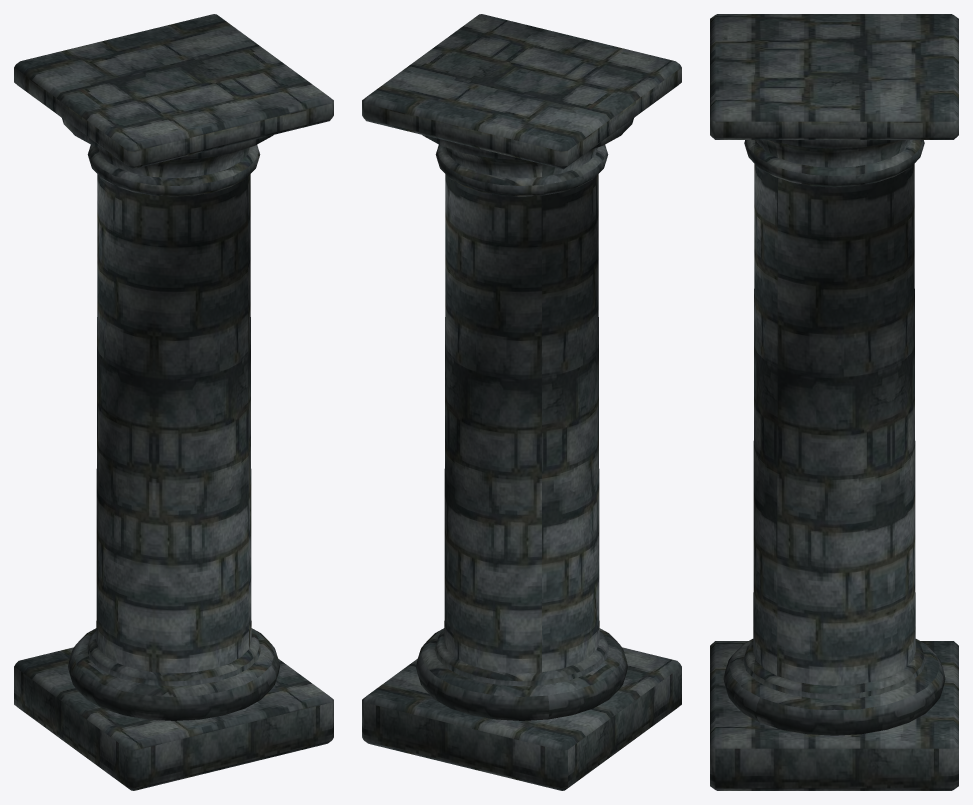
Rendered from dark stone pillar nice.glb.
The picture shows the model from 3 angles, left to right: view 1: azimuth 30°, elevation 25°; view 2: azimuth 150°, elevation 25°; view 3: azimuth 270°, elevation 25°; orthographic projection. The views are drawn at different scales.
Parts seen in each view (by area): view 1: column.041; view 2: column.041; view 3: column.041.
Part boxes in pixels (left/top/right/bottom): column.041: left=14, top=14, right=333, bottom=790; column.041: left=362, top=14, right=681, bottom=790; column.041: left=710, top=14, right=958, bottom=790.
Bounding box in the file's own units: 0.9144 × 2.74 × 0.9144.
1 material, 1 textured.
